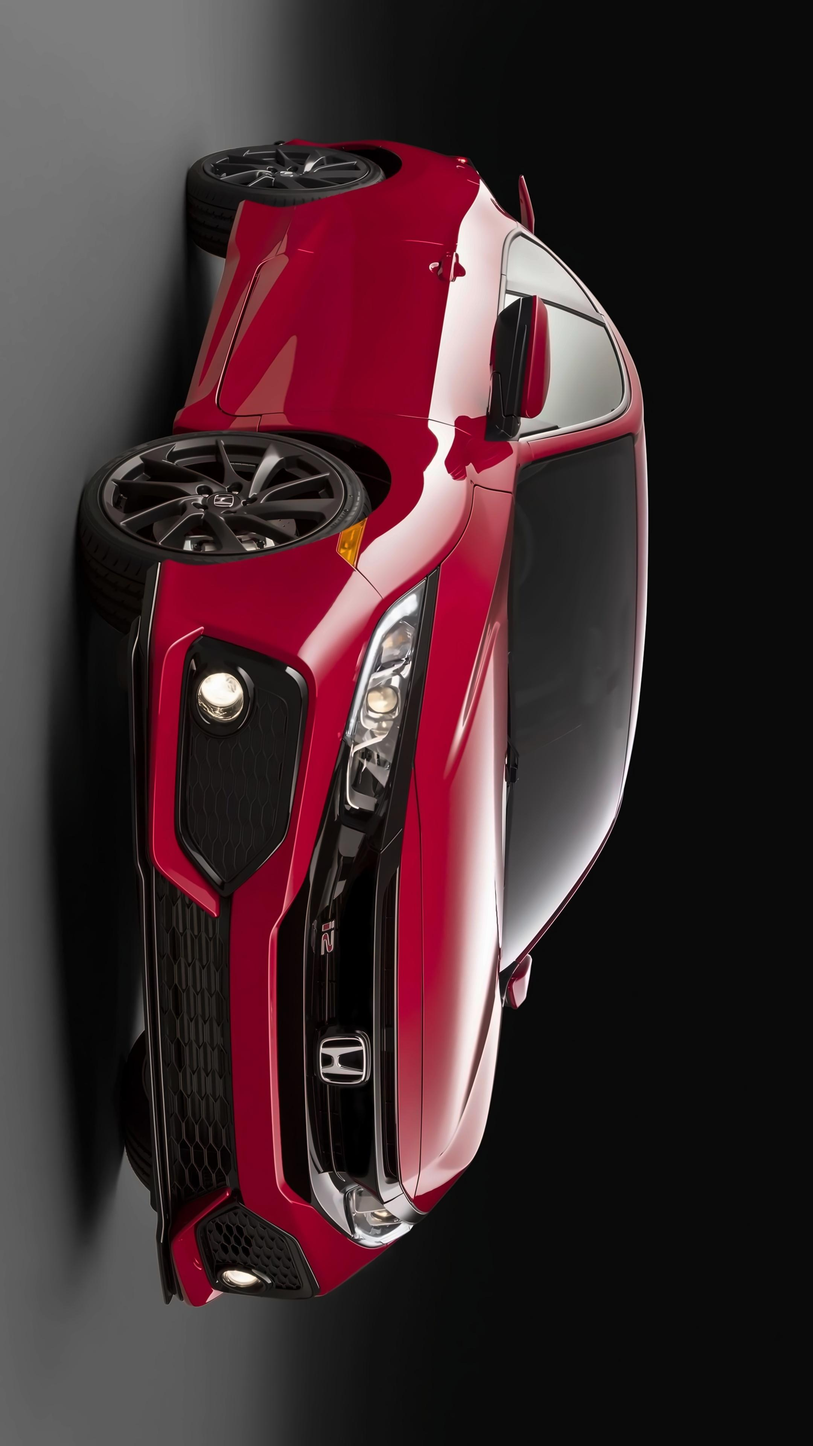Car hood: (394, 467, 510, 1228)
Driver-s door - -F-R-: (155, 230, 679, 468)
Fender - -F-R-: (144, 399, 537, 599)
Fender - -R-R-: (220, 130, 505, 234)
Front bumper: (92, 531, 403, 1318)
Headlight - -L-: (309, 1160, 421, 1253)
Headlight - -R-: (334, 559, 439, 836)
Side bumper - -R-: (170, 177, 304, 450)
Side mirror - -R-: (486, 281, 557, 445)
